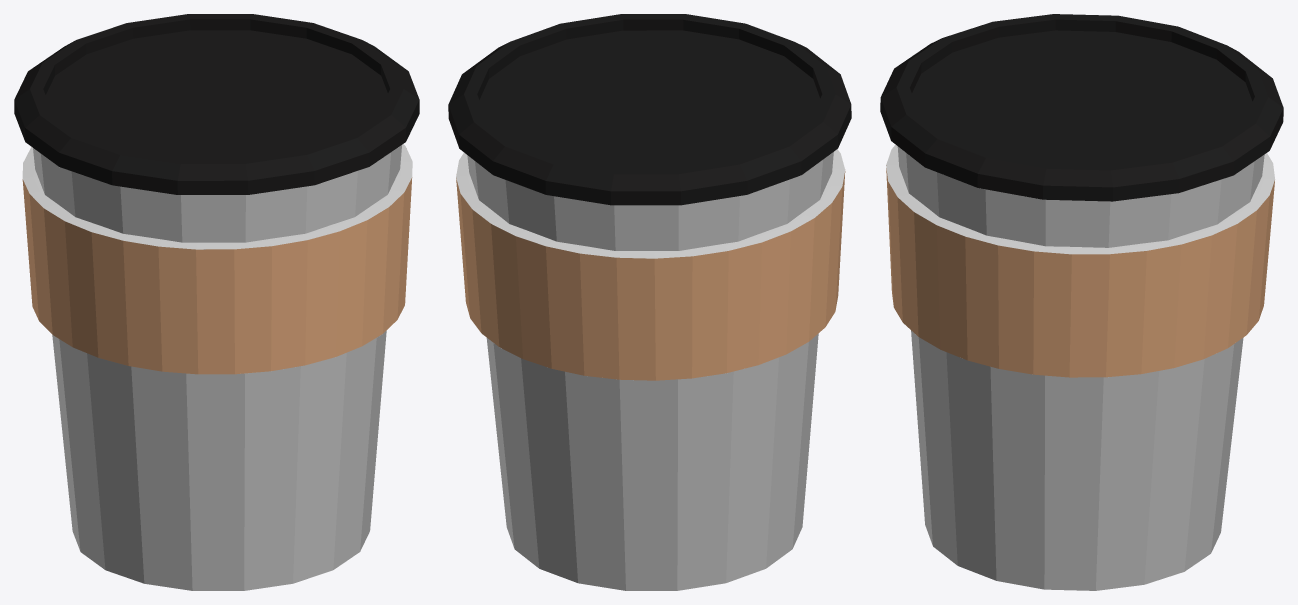
File: coffee_1.glb
3 renders of one model, left to right at view 1: azimuth 30°, elevation 25°; view 2: azimuth 150°, elevation 25°; view 3: azimuth 270°, elevation 25°, orthographic.
Parts seen in each view (by area): view 1: coffee_2; view 2: coffee_2; view 3: coffee_2.
Boxes of the visible parts, x1,y1,x2,y2 form: coffee_2: [14, 14, 419, 590]; coffee_2: [448, 14, 851, 590]; coffee_2: [880, 14, 1283, 590].
Bounding box in the file's own units: 0.1568 × 0.1922 × 0.1588.
